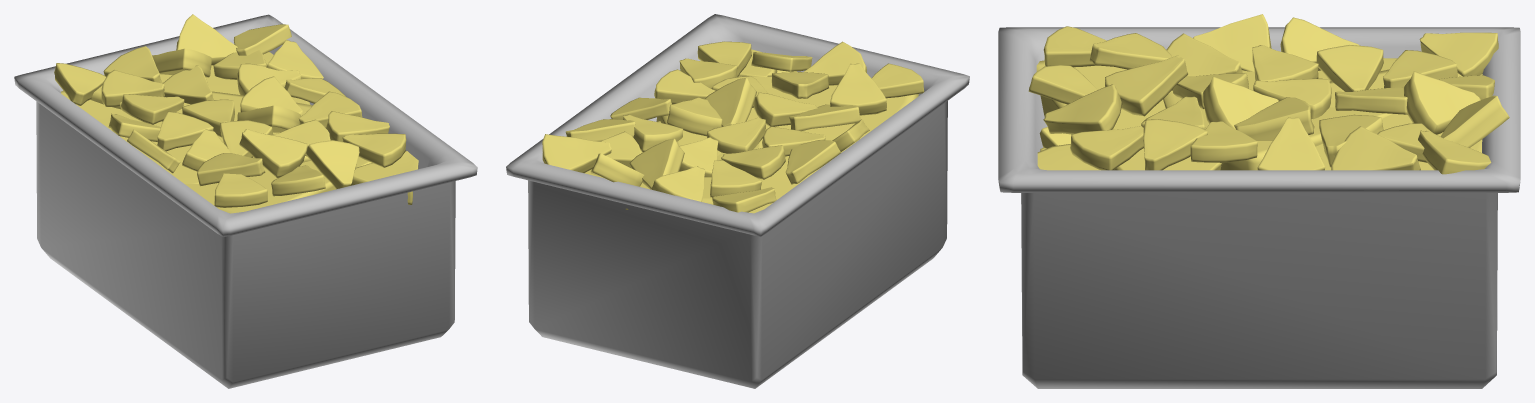
The model's file is pineapple_vart.fbx.
3 renders of one model, left to right at view 1: azimuth 30°, elevation 25°; view 2: azimuth 150°, elevation 25°; view 3: azimuth 270°, elevation 25°, orthographic. The views are drawn at different scales.
Parts seen in each view (by area): view 1: pineapple_vart; view 2: pineapple_vart; view 3: pineapple_vart.
Part boxes in pixels (bbox=[...]): pineapple_vart: bbox=[14, 14, 477, 388]; pineapple_vart: bbox=[506, 14, 969, 388]; pineapple_vart: bbox=[998, 14, 1520, 388].
Bounding box in the file's own units: 9.7 × 7.36 × 13.71.
